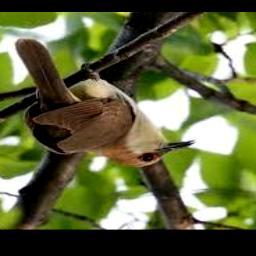Cuckoo: (15, 38, 193, 168)
